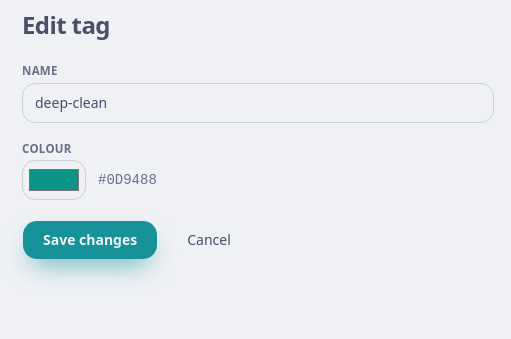
TagEdit › surfaces an update error and stays on the form
Step 1. Click the button "Save changes" → (90, 240), box [22,220,158,260]
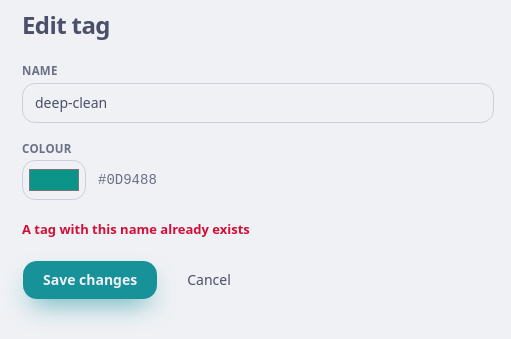
Result: the text "A tag with this name already exists" is shown at [22,220,250,238]
